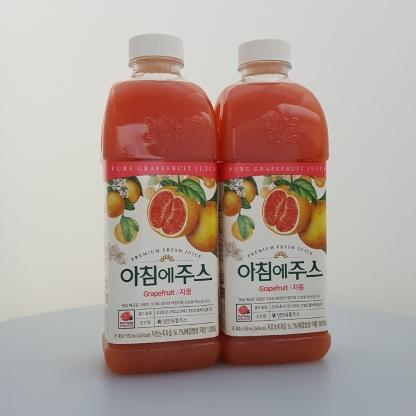-----------950ML: (101, 34, 220, 376), (209, 39, 332, 366)
